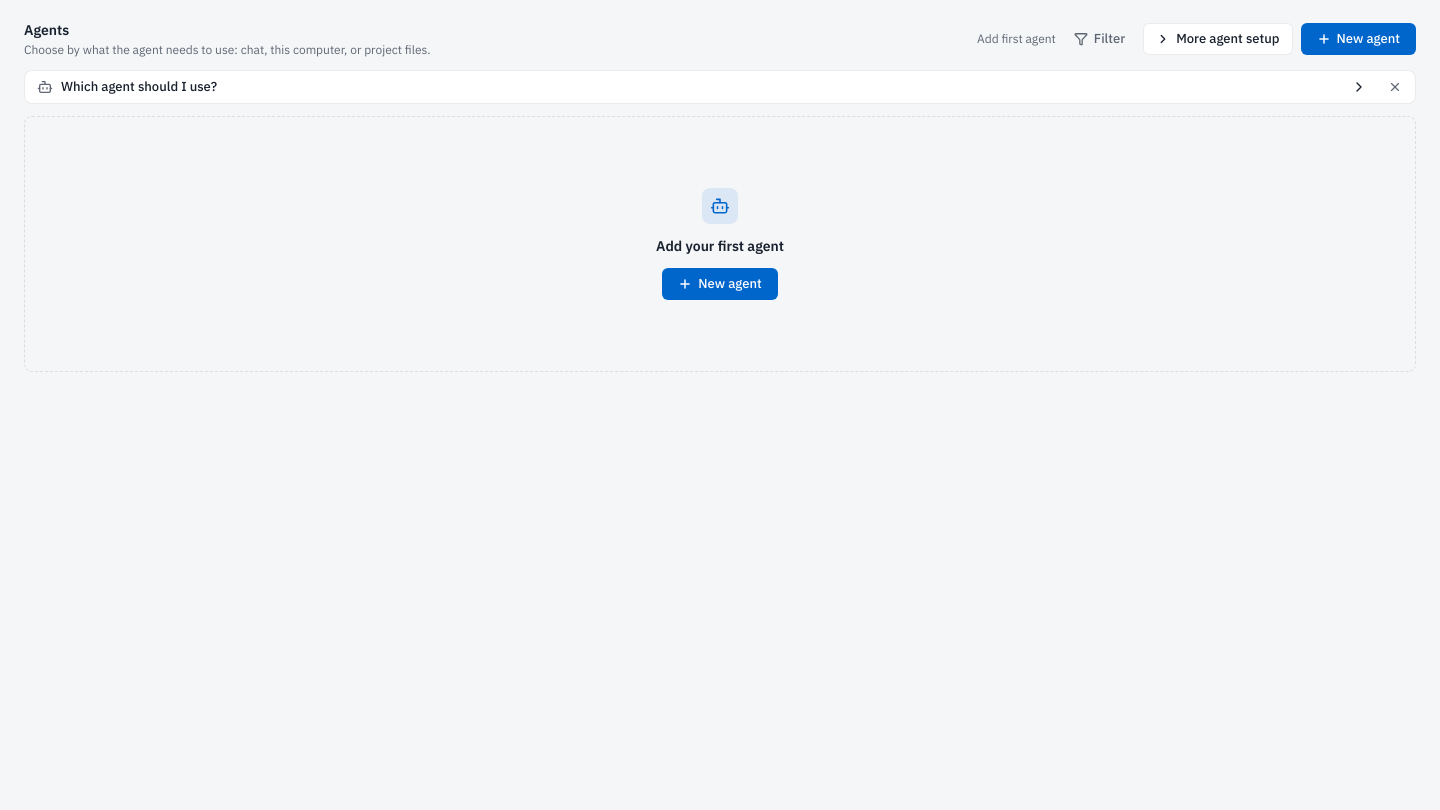
Test: AgentListView › shows empty state when no agents
This screenshot has width=1440, height=810.
Click the button "Which agent should I use?". click: {"x": 139, "y": 86}
box: [25,71,1379,103]
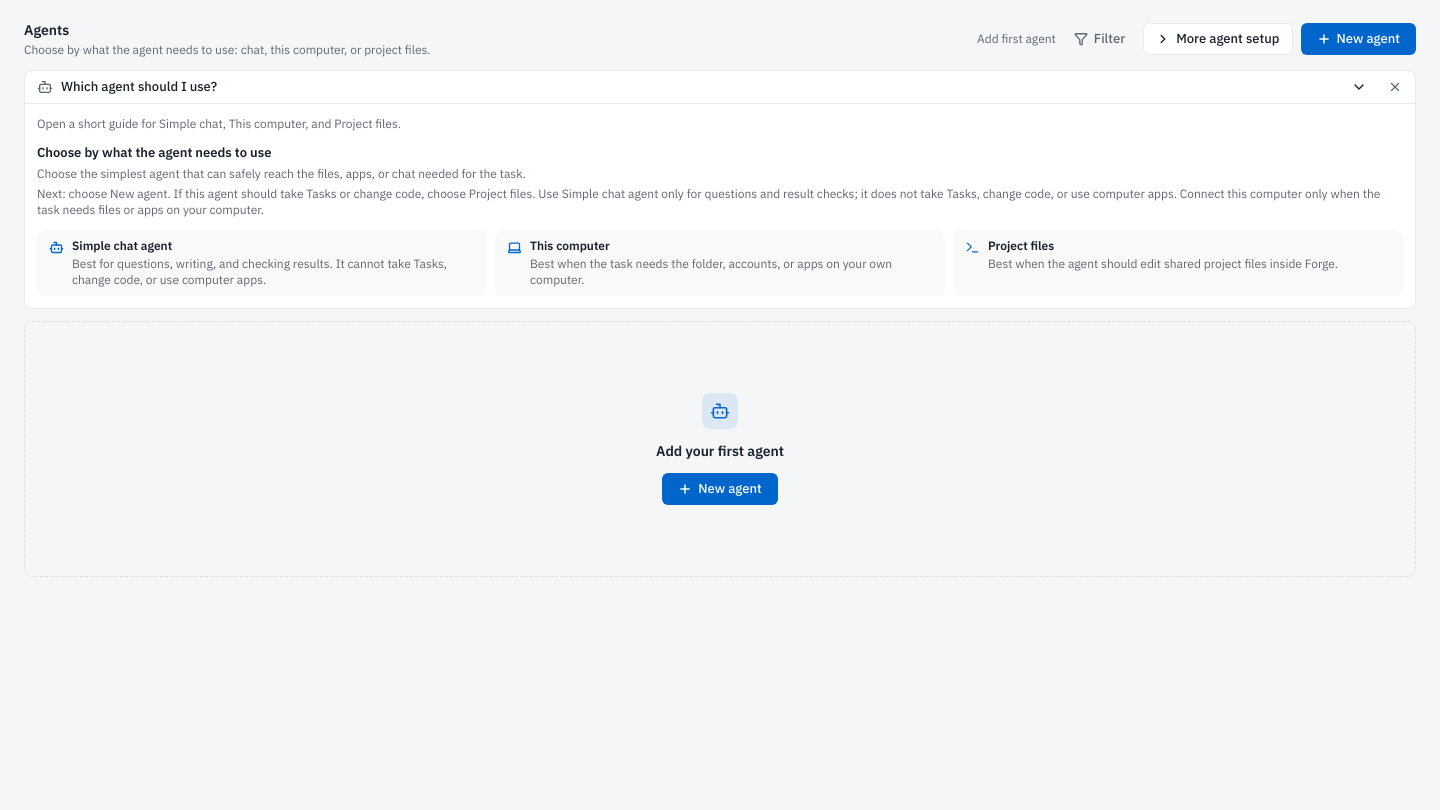
Expected: the button "Which agent should I use?" is expanded, [25,71,1379,103]
Expected: the text "Next: choose New agent" is shown, [37,186,1380,217]
Expected: the heading "Choose by what the agent needs to use" is shown, [37,144,272,161]
